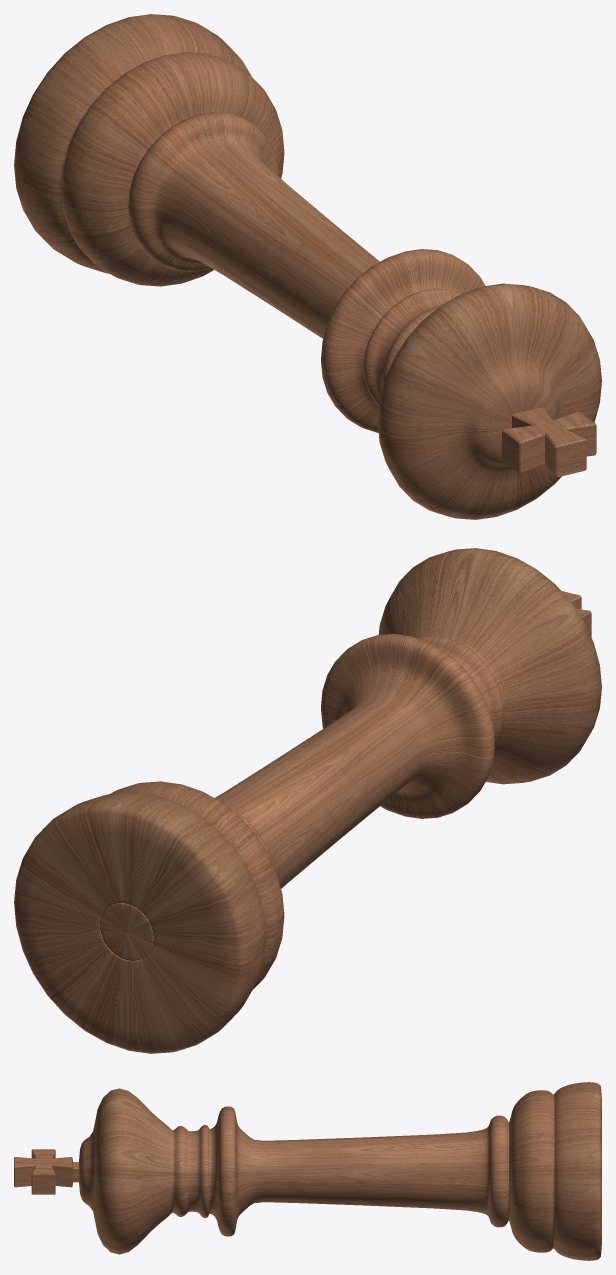
File: king.obj
3 renders of one model, top to bottom at view 1: azimuth 30°, elevation 25°; view 2: azimuth 150°, elevation 25°; view 3: azimuth 270°, elevation 25°, orthographic. The views are drawn at different scales.
Visible parts, largest first — view 1: Cross_Cube.001; view 2: Cross_Cube.001; view 3: Cross_Cube.001.
Part boxes in pixels (left/top/right/bottom): Cross_Cube.001: left=14, top=14, right=601, bottom=519; Cross_Cube.001: left=14, top=548, right=601, bottom=1053; Cross_Cube.001: left=14, top=1082, right=601, bottom=1260.
Bounding box in the file's own units: 1.17 × 1.17 × 3.85.
